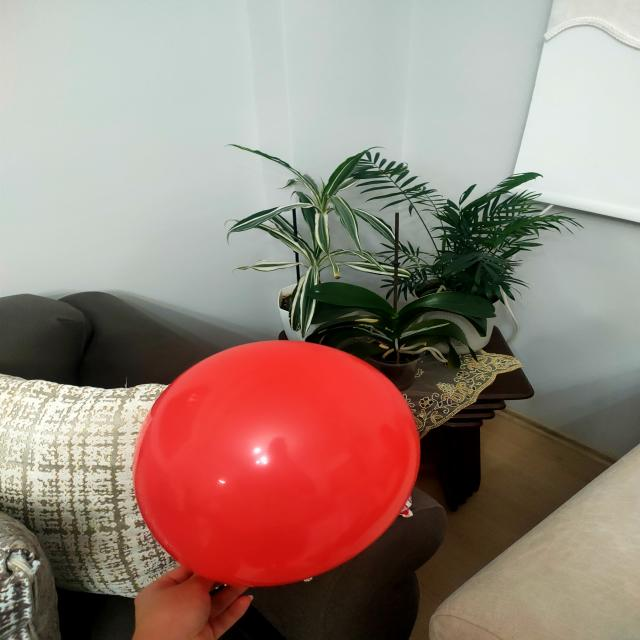red: (138, 341, 423, 590)
